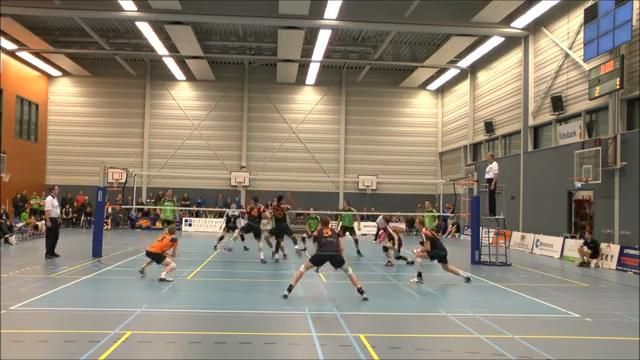difesa: (139, 220, 181, 286)
